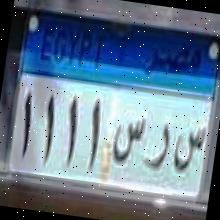1: (58, 96, 84, 172), (83, 96, 108, 173), (37, 92, 60, 166), (16, 90, 38, 162)
raa: (144, 119, 174, 172)
seen: (170, 120, 209, 180), (109, 111, 147, 169)
